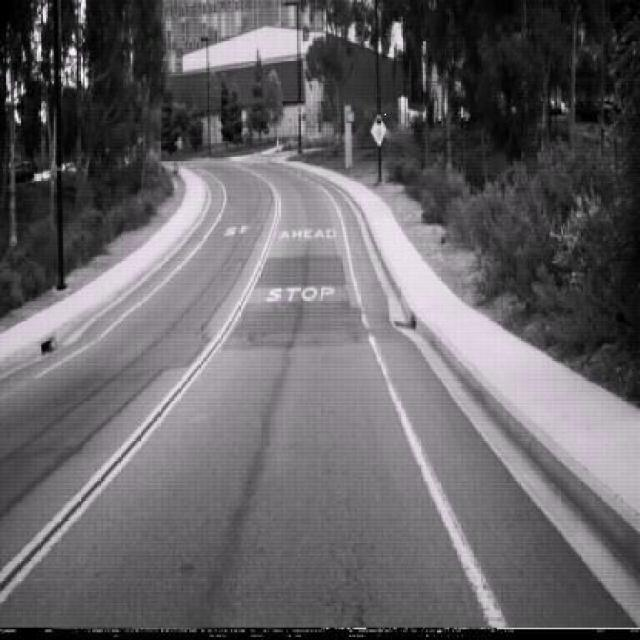stopAhead: (370, 112, 388, 146)
